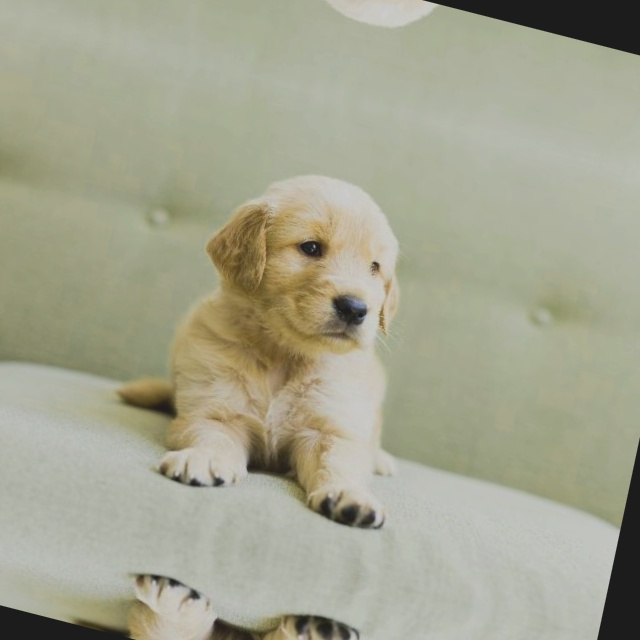dog: (90, 113, 464, 544), (59, 546, 373, 640), (190, 0, 500, 75)
